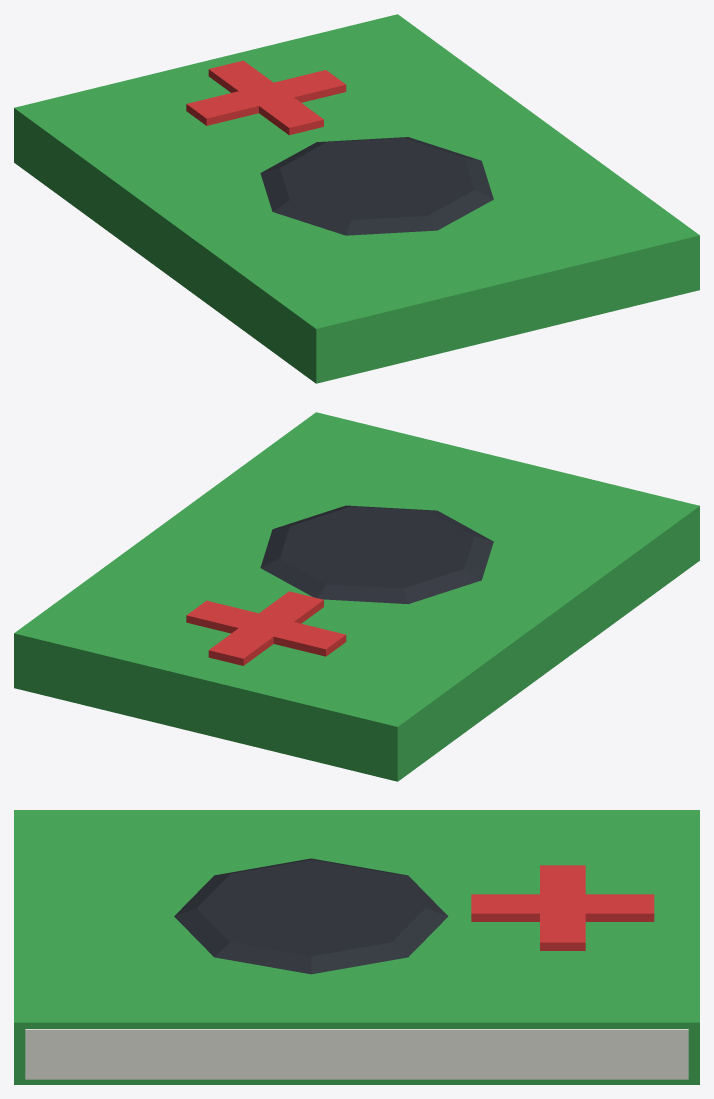
Rendered from super_weigh_manual.glb.
3 views of the same model, one above another, from view 1: azimuth 30°, elevation 25°; view 2: azimuth 150°, elevation 25°; view 3: azimuth 270°, elevation 25° (orthographic). The views are drawn at different scales.
Visible parts, largest first — view 1: cover_manual_cover, weight_manual_weight, plus_manual_plus (×2); view 2: cover_manual_cover, weight_manual_weight, plus_manual_plus (×2); view 3: cover_manual_cover, pages_manual_pages, weight_manual_weight, plus_manual_plus (×2).
Part boxes in pixels (x1,y1,x2,y2): cover_manual_cover: (14,14,699,383); weight_manual_weight: (260,137,493,235); plus_manual_plus (×2): (186,60,346,135); cover_manual_cover: (14,412,699,781); weight_manual_weight: (260,505,493,604); plus_manual_plus (×2): (186,591,346,665); cover_manual_cover: (14,810,699,1084); pages_manual_pages: (25,1029,688,1079); weight_manual_weight: (174,858,448,974); plus_manual_plus (×2): (471,865,654,950).
Size of the model in its own units: 0.221 by 0.036 by 0.3.
